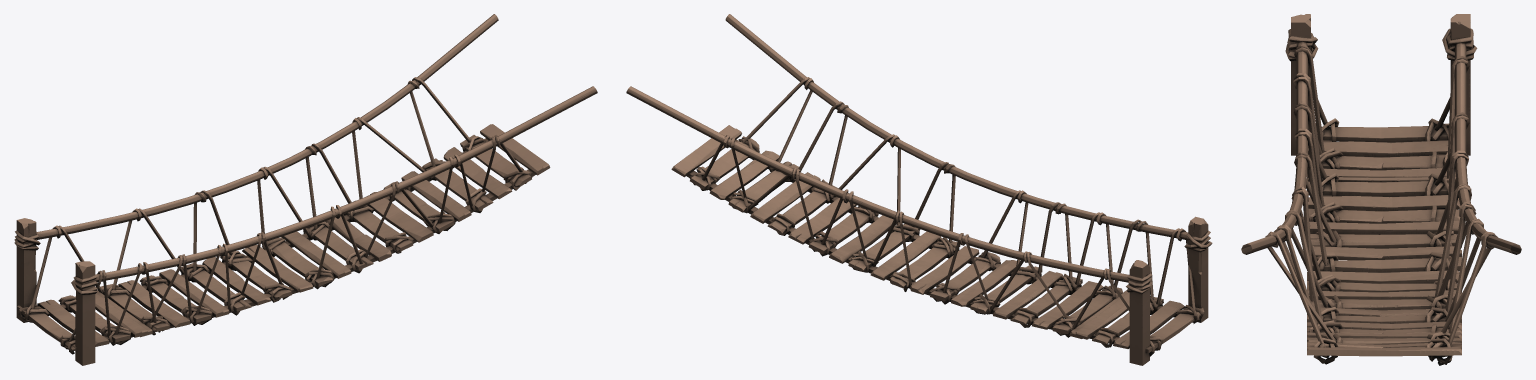
The model's file is Merchant_Bridge.fbx.
3 renders of one model, left to right at view 1: azimuth 30°, elevation 25°; view 2: azimuth 150°, elevation 25°; view 3: azimuth 270°, elevation 25°, orthographic. The views are drawn at different scales.
Parts seen in each view (by area): view 1: SM_Puzzle_Bridge_01.mo; view 2: SM_Puzzle_Bridge_01.mo; view 3: SM_Puzzle_Bridge_01.mo.
Boxes of the visible parts, box(x1,y1,x2,y2) form: SM_Puzzle_Bridge_01.mo: box(14, 14, 597, 365); SM_Puzzle_Bridge_01.mo: box(626, 14, 1212, 365); SM_Puzzle_Bridge_01.mo: box(1241, 14, 1521, 365).
Size of the model in its own units: 879 by 284 by 311.
2 materials, 2 textured.
